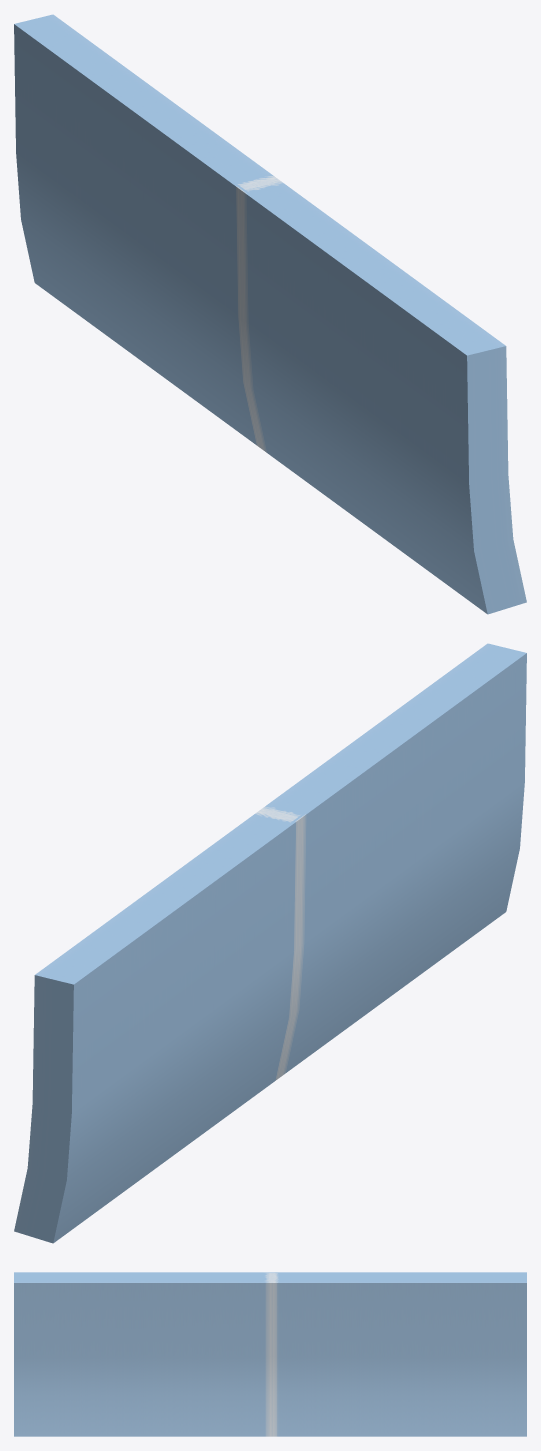
The model's file is RightSideWall.fbx.
3 views of the same model, one above another, from view 1: azimuth 30°, elevation 25°; view 2: azimuth 150°, elevation 25°; view 3: azimuth 270°, elevation 25° (orthographic). The views are drawn at different scales.
Parts seen in each view (by area): view 1: RightSideWall; view 2: RightSideWall; view 3: RightSideWall.
Boxes of the visible parts, <box> form: RightSideWall: <box>14,14,526,614</box>; RightSideWall: <box>14,643,526,1243</box>; RightSideWall: <box>14,1272,526,1436</box>.
Bounding box in the file's own units: 1.53 × 6.43 × 20.
1 material, 1 textured.
